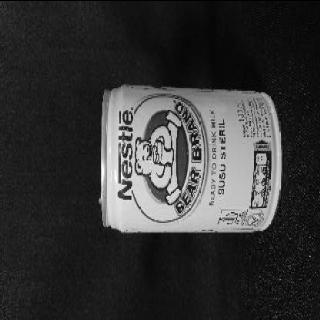alumunium_can: (100, 83, 282, 233)
